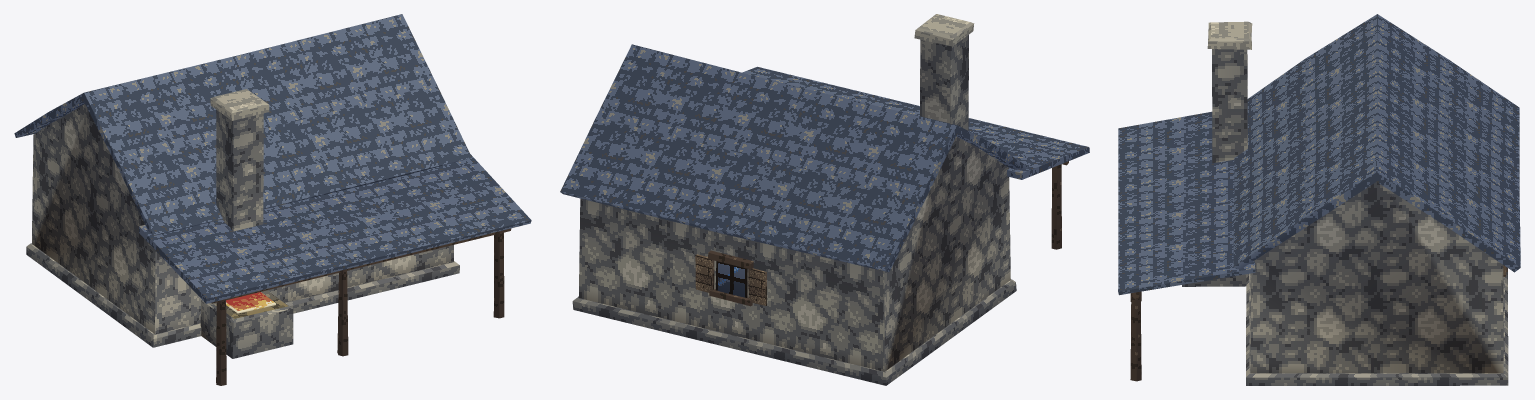
The model's file is vlg.smithy__doorway.glb.
3 renders of one model, left to right at view 1: azimuth 30°, elevation 25°; view 2: azimuth 150°, elevation 25°; view 3: azimuth 270°, elevation 25°, orthographic. The views are drawn at different scales.
Parts seen in each view (by area): view 1: kit_roof, kit_walls, kit_stonework, kit_frame, kit_fittings; view 2: kit_roof, kit_walls, kit_stonework, kit_fittings, kit_frame; view 3: kit_roof, kit_walls, kit_stonework, kit_frame.
Boxes of the visible parts, left/top/right/bottom form: kit_roof: left=14, top=14, right=531, bottom=303; kit_walls: left=31, top=104, right=453, bottom=334; kit_stonework: left=26, top=89, right=459, bottom=358; kit_frame: left=211, top=228, right=511, bottom=385; kit_fittings: left=226, top=292, right=275, bottom=313; kit_roof: left=560, top=44, right=1089, bottom=272; kit_walls: left=578, top=136, right=1010, bottom=371; kit_stonework: left=572, top=14, right=1016, bottom=385; kit_fittings: left=695, top=250, right=766, bottom=306; kit_frame: left=1051, top=161, right=1068, bottom=249; kit_roof: left=1118, top=14, right=1520, bottom=295; kit_walls: left=1250, top=182, right=1503, bottom=373; kit_stonework: left=1182, top=21, right=1508, bottom=385; kit_frame: left=1130, top=291, right=1141, bottom=381.
Size of the model in its own units: 7.63 by 5.26 by 7.94.
8 materials, 8 textured.
